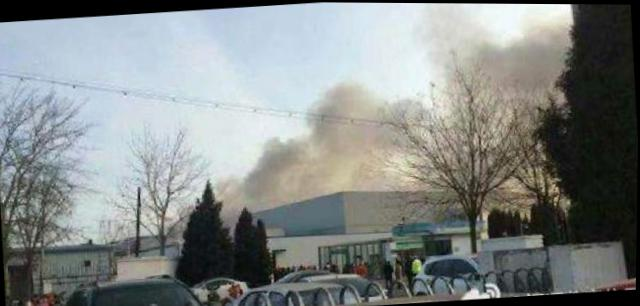smoke: (259, 86, 409, 156), (202, 152, 306, 212), (304, 148, 411, 195), (484, 23, 564, 83), (420, 2, 486, 74)
